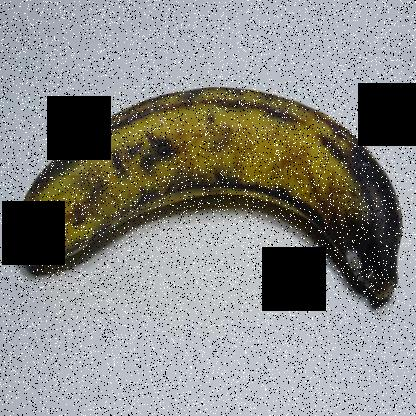overripe: (9, 66, 414, 315)
rotten: (301, 123, 415, 329)
